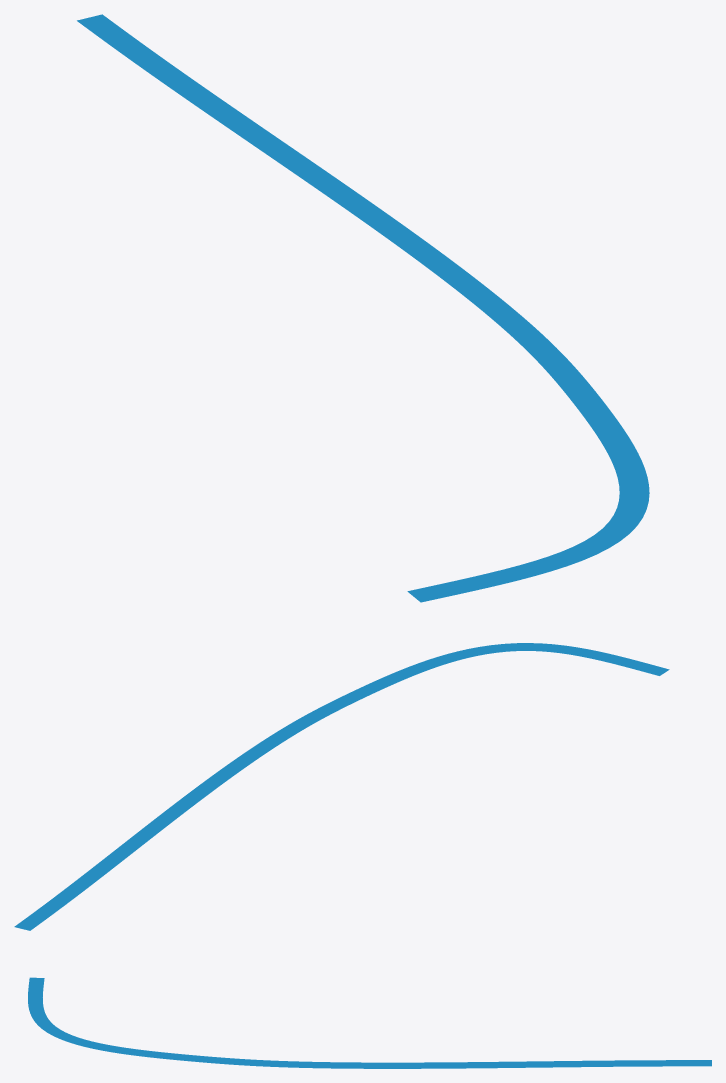
Rendered from guide.glb.
The picture shows the model from 3 angles, top to bottom: view 1: azimuth 30°, elevation 25°; view 2: azimuth 150°, elevation 25°; view 3: azimuth 270°, elevation 25°; orthographic projection. The views are drawn at different scales.
Visible parts, largest first — view 1: static; view 2: static; view 3: static.
Boxes of the visible parts, left/top/right/bottom form: static: left=77, top=14, right=649, bottom=602; static: left=14, top=643, right=669, bottom=930; static: left=28, top=977, right=711, bottom=1068.
Size of the model in its own units: 5.56 by 0 by 14.94.
